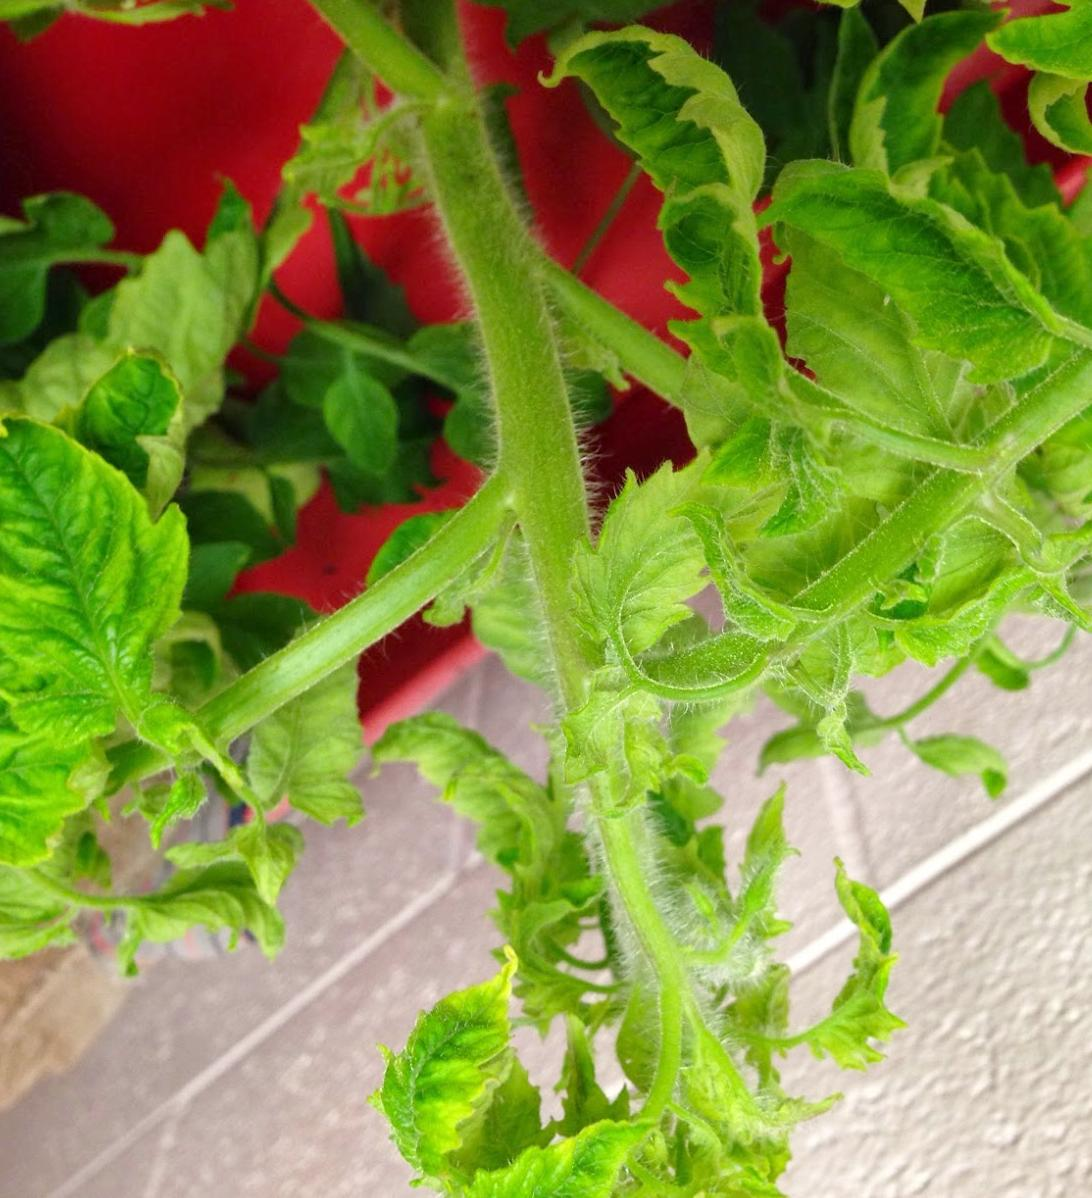Tomato leaf yellow virus: (550, 0, 797, 423), (779, 137, 1092, 393), (0, 410, 216, 778), (363, 912, 545, 1181), (575, 452, 769, 682), (461, 1086, 668, 1198)
